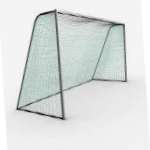goals: (14, 7, 129, 122)
